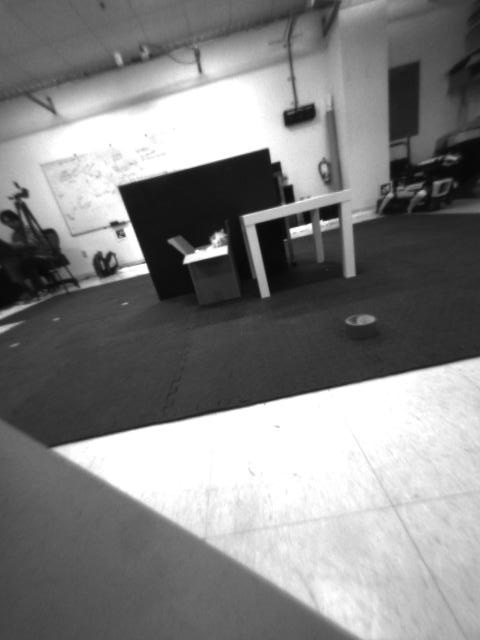dogtoy: (335, 306, 380, 344)
